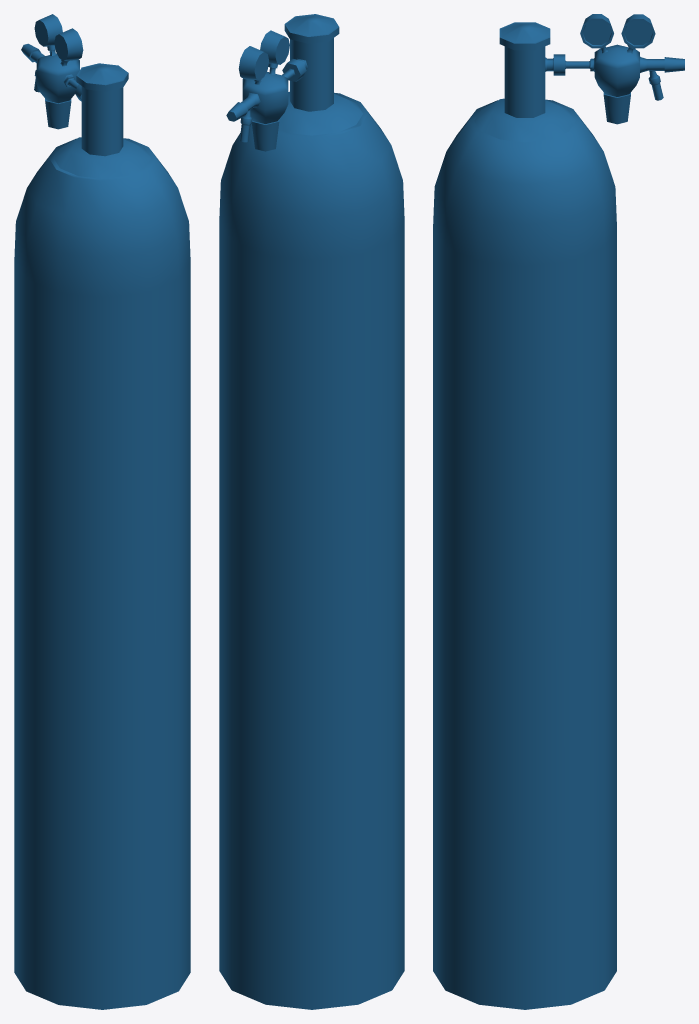
The model's file is Oxygen Galloon.fbx.
3 views of the same model, side by side, from view 1: azimuth 30°, elevation 25°; view 2: azimuth 150°, elevation 25°; view 3: azimuth 270°, elevation 25° (orthographic). The views are drawn at different scales.
Visible parts, largest first — view 1: LP2.001; view 2: LP2.001; view 3: LP2.001.
Boxes of the visible parts, left/top/right/bottom form: LP2.001: left=14, top=14, right=190, bottom=1009; LP2.001: left=219, top=14, right=404, bottom=1009; LP2.001: left=433, top=14, right=684, bottom=1009.
Bounding box in the file's own units: 77.56 × 445 × 106.
